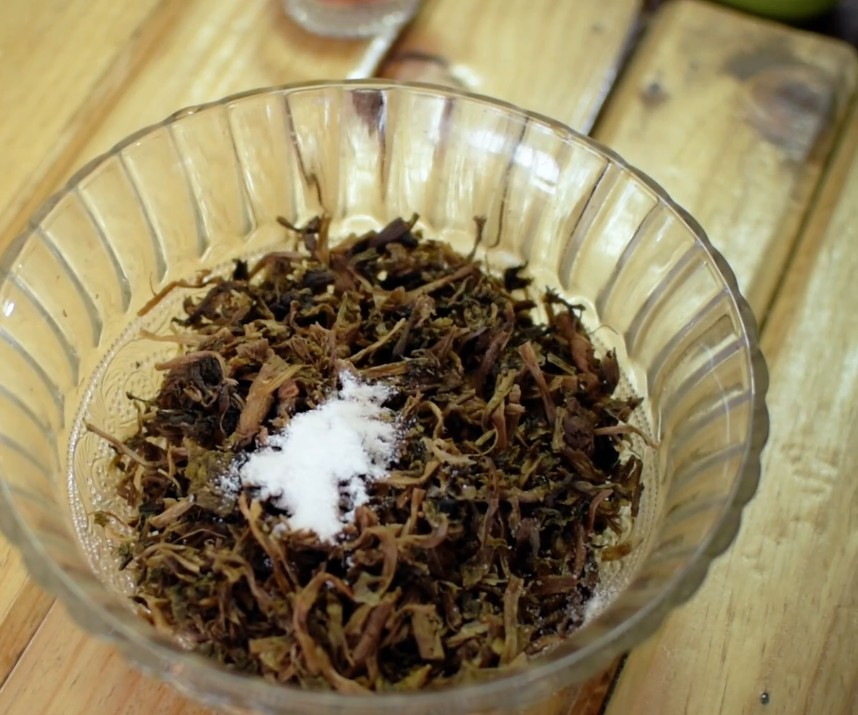gundruk: (90, 223, 607, 655)
